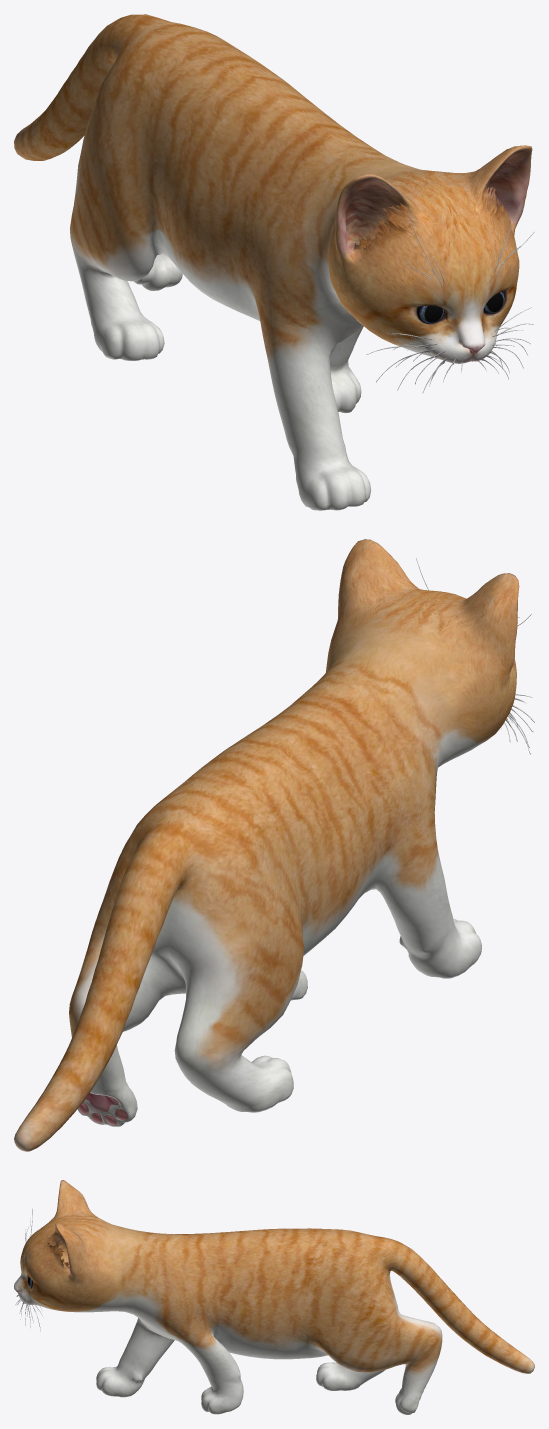
3 renders of one model, top to bottom at view 1: azimuth 30°, elevation 25°; view 2: azimuth 150°, elevation 25°; view 3: azimuth 270°, elevation 25°, orthographic. The views are drawn at different scales.
Visible parts, largest first — view 1: kitten_GEO; view 2: kitten_GEO; view 3: kitten_GEO.
Part boxes in pixels (x1=…): kitten_GEO: x1=14, y1=14, x2=534, y2=510; kitten_GEO: x1=14, y1=539, x2=534, y2=1151; kitten_GEO: x1=14, y1=1180, x2=534, y2=1414.
Size of the model in its own units: 0.1741 by 0.3306 by 0.7543.
1 material, 1 textured.
